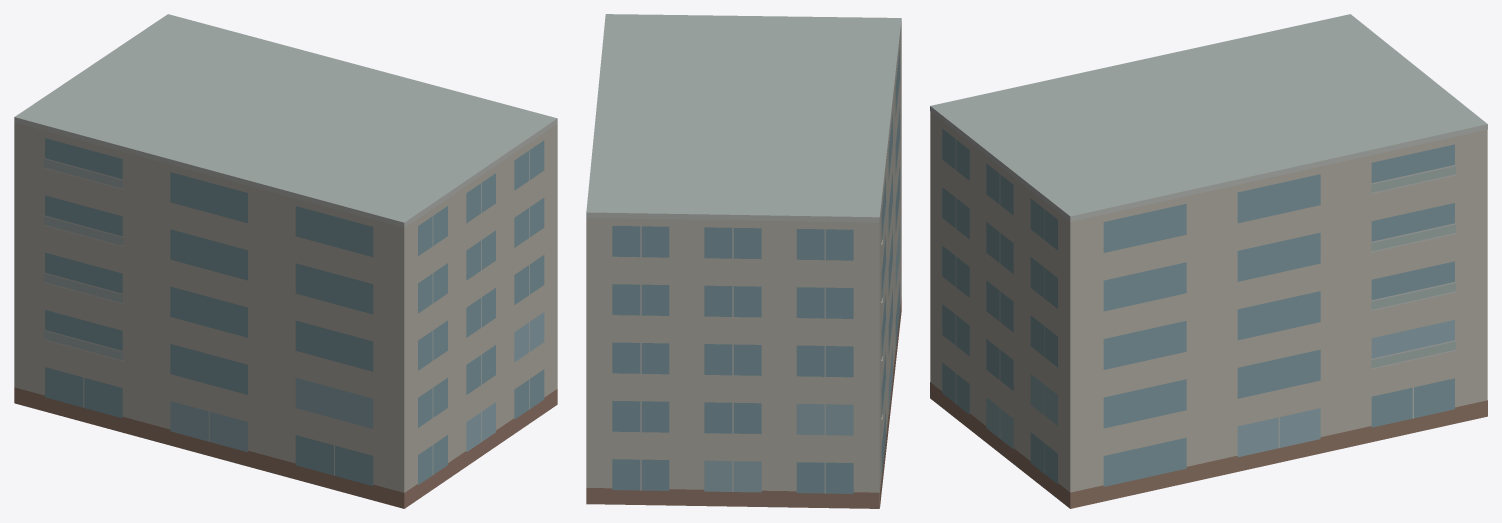
File: survey-upis-32912530.glb
3 renders of one model, left to right at view 1: azimuth 30°, elevation 25°; view 2: azimuth 150°, elevation 25°; view 3: azimuth 270°, elevation 25°, orthographic. The views are drawn at different scales.
Parts seen in each view (by area): view 1: survey-upis-32912530.tmp; view 2: survey-upis-32912530.tmp; view 3: survey-upis-32912530.tmp.
Part boxes in pixels (bbox=[...]): survey-upis-32912530.tmp: bbox=[14, 14, 557, 508]; survey-upis-32912530.tmp: bbox=[586, 14, 901, 508]; survey-upis-32912530.tmp: bbox=[930, 14, 1487, 508].
Bounding box in the file's own units: 19.61 × 13.2 × 22.82.
